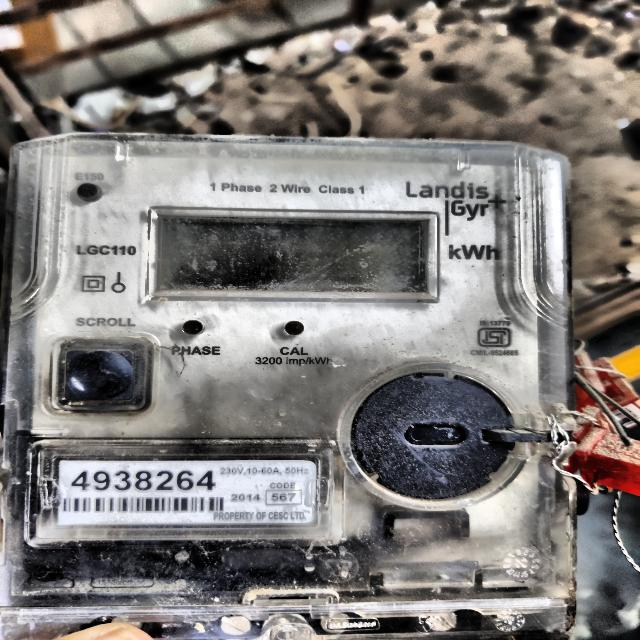Digital: (2, 125, 578, 640)
Reading: (163, 217, 429, 291)
Serial No.: (68, 464, 218, 494)
